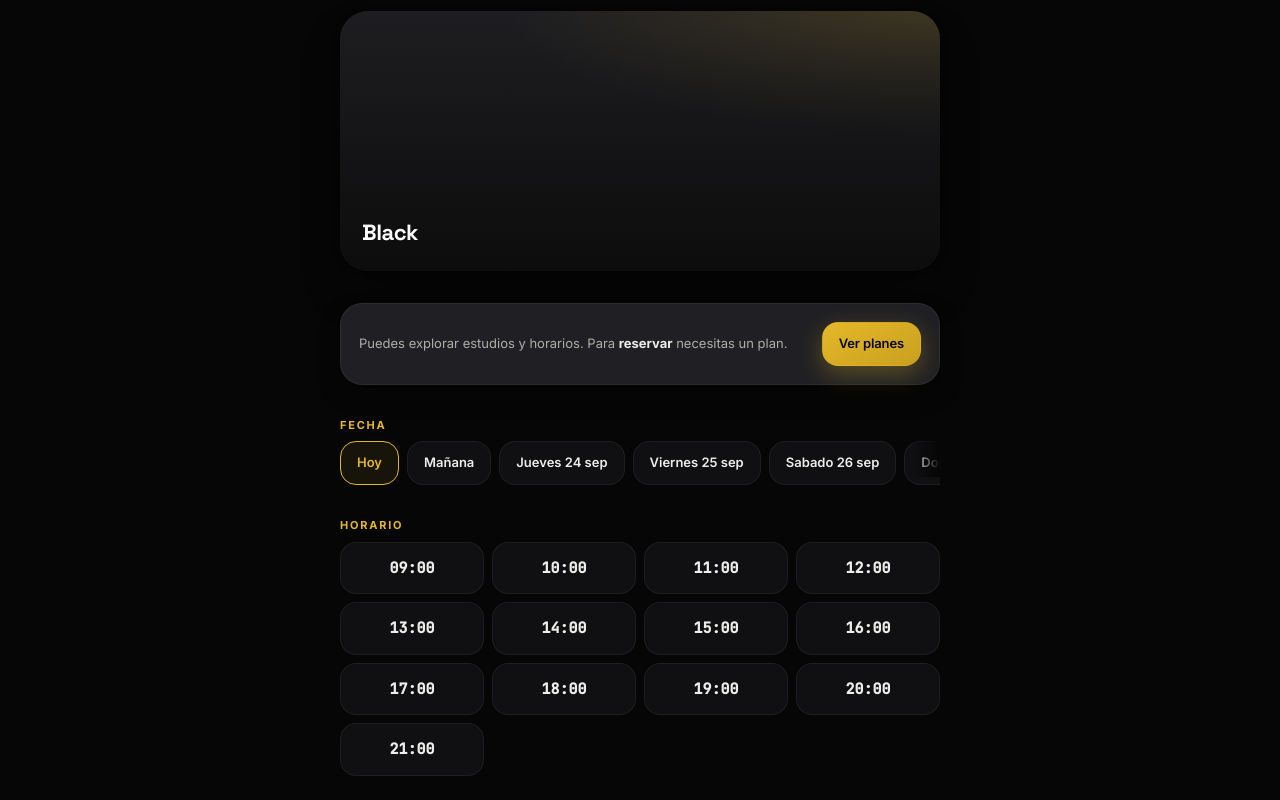
Reservar · pago por hora › sin plan: tocar una hora ofrece comprar el paquete que alcanza y muestra su precio
The width and height of the screenshot is (1280, 800).
(page scrolled)
Check: the button "09:00" is shown, box top-left (340, 542), bottom-right (484, 594)
Click the button "21:00" at [412, 749], box top-left (340, 723), bottom-right (484, 776)
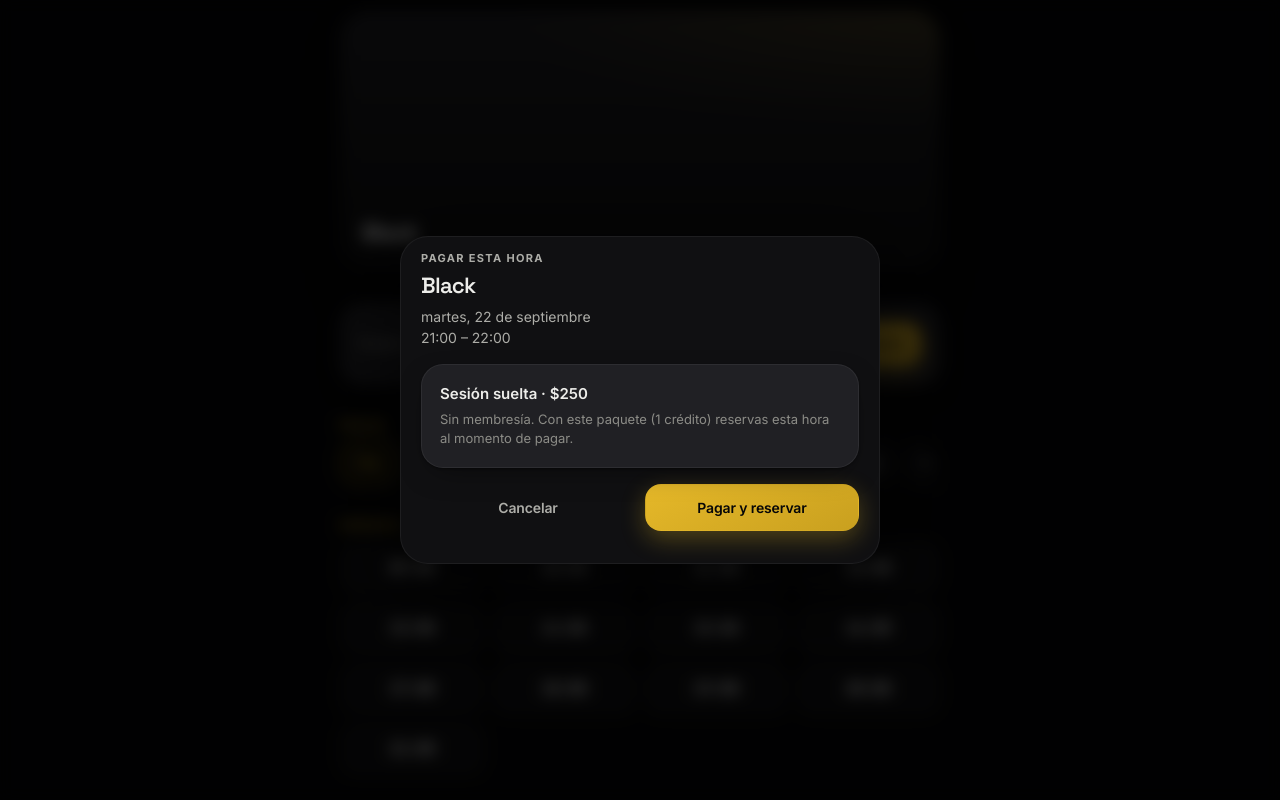
Check: the text "Sesión suelta · $250" is shown, box top-left (440, 384), bottom-right (588, 403)
Check: the text "Sin membresía" is shown, box top-left (440, 411), bottom-right (829, 446)
Check: the button "Pagar y reservar" is shown, box top-left (645, 484), bottom-right (859, 531)
